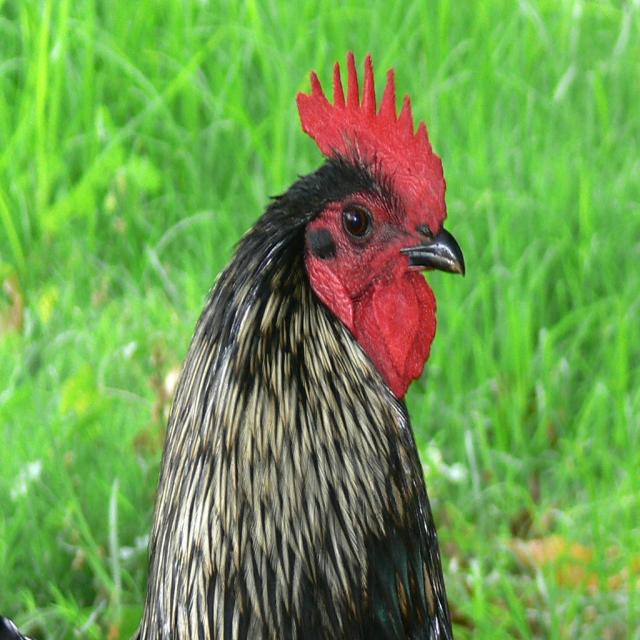Chicken: (144, 56, 462, 640)
